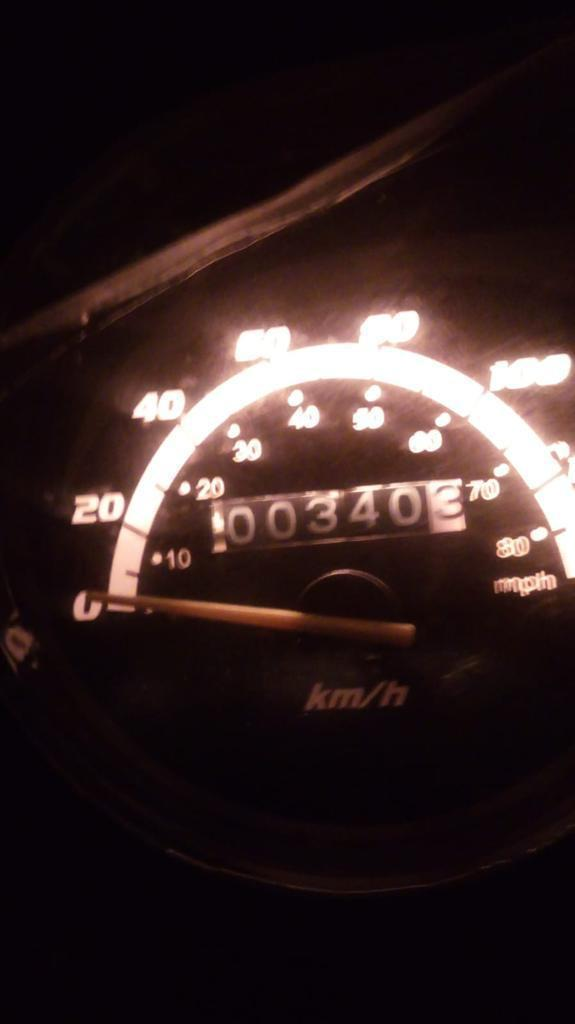0: (387, 486, 423, 527), (266, 500, 297, 541), (227, 505, 256, 545), (211, 477, 226, 498)
3: (303, 496, 338, 535), (434, 484, 465, 520)
4: (348, 489, 380, 528)
odometer: (207, 476, 468, 558)
